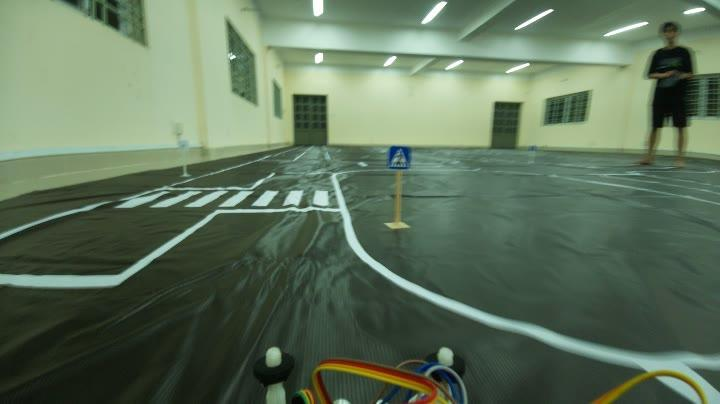crosswalk: (382, 141, 416, 174)
